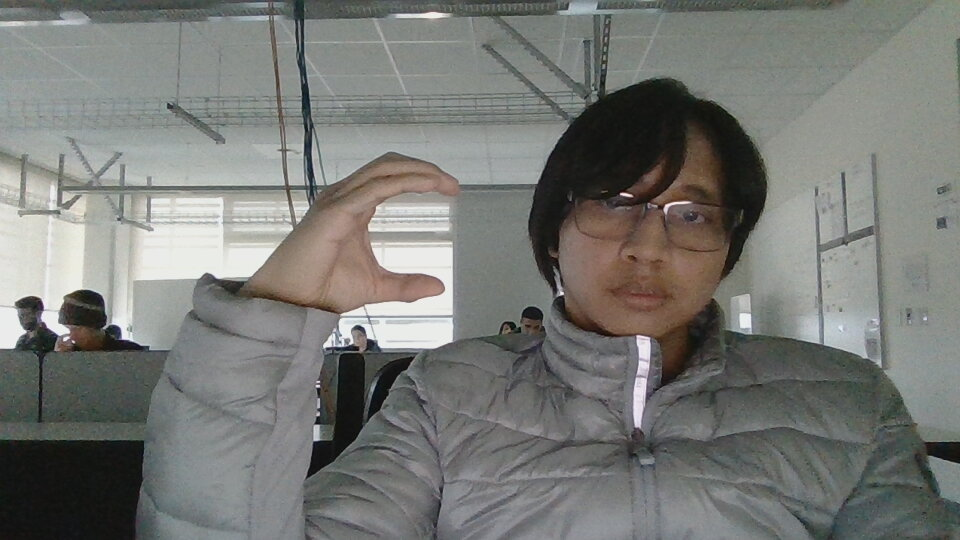c: (231, 150, 464, 317)
